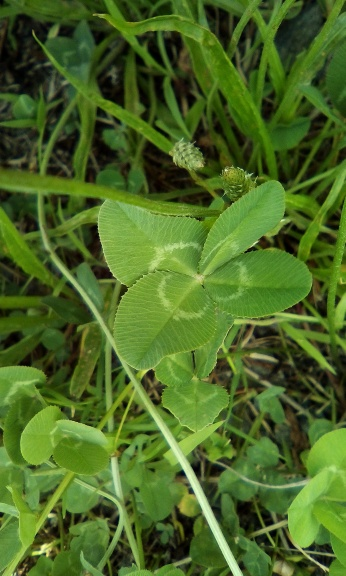4leaf: (96, 178, 313, 374)
